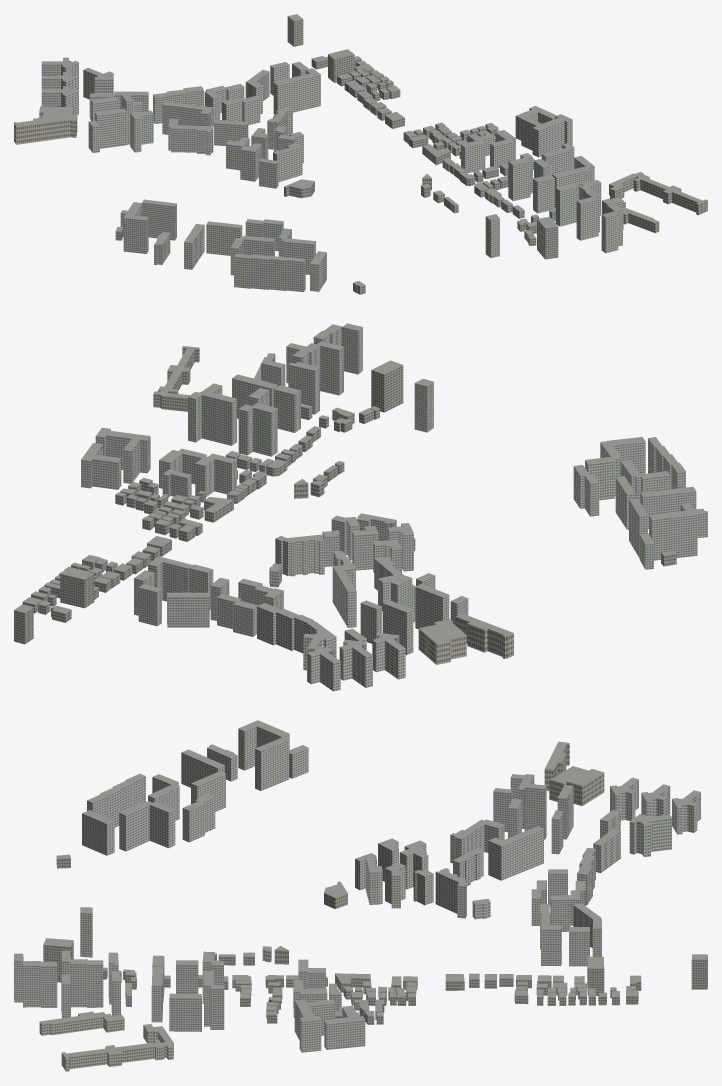
The picture shows the model from 3 angles, top to bottom: view 1: azimuth 30°, elevation 25°; view 2: azimuth 150°, elevation 25°; view 3: azimuth 270°, elevation 25°; orthographic projection. The views are drawn at different scales.
Parts seen in each view (by area): view 1: ctx-apartments, ctx-roof, ctx-other, ctx-school; view 2: ctx-apartments, ctx-roof, ctx-other, ctx-school; view 3: ctx-apartments, ctx-roof, ctx-other, ctx-school.
Boxes of the visible parts, x1,y1,x2,y2 form: ctx-apartments: [41, 62, 623, 291]; ctx-roof: [14, 14, 707, 286]; ctx-other: [115, 16, 558, 294]; ctx-school: [14, 108, 707, 233]; ctx-apartments: [81, 327, 707, 691]; ctx-roof: [14, 323, 707, 662]; ctx-other: [14, 365, 676, 644]; ctx-school: [153, 347, 513, 664]; ctx-apartments: [14, 726, 700, 1052]; ctx-roof: [14, 720, 707, 1058]; ctx-other: [43, 856, 707, 1024]; ctx-school: [39, 743, 604, 1071].
Size of the model in its own units: 843 by 97.76 by 864.
5 materials, 4 textured.
